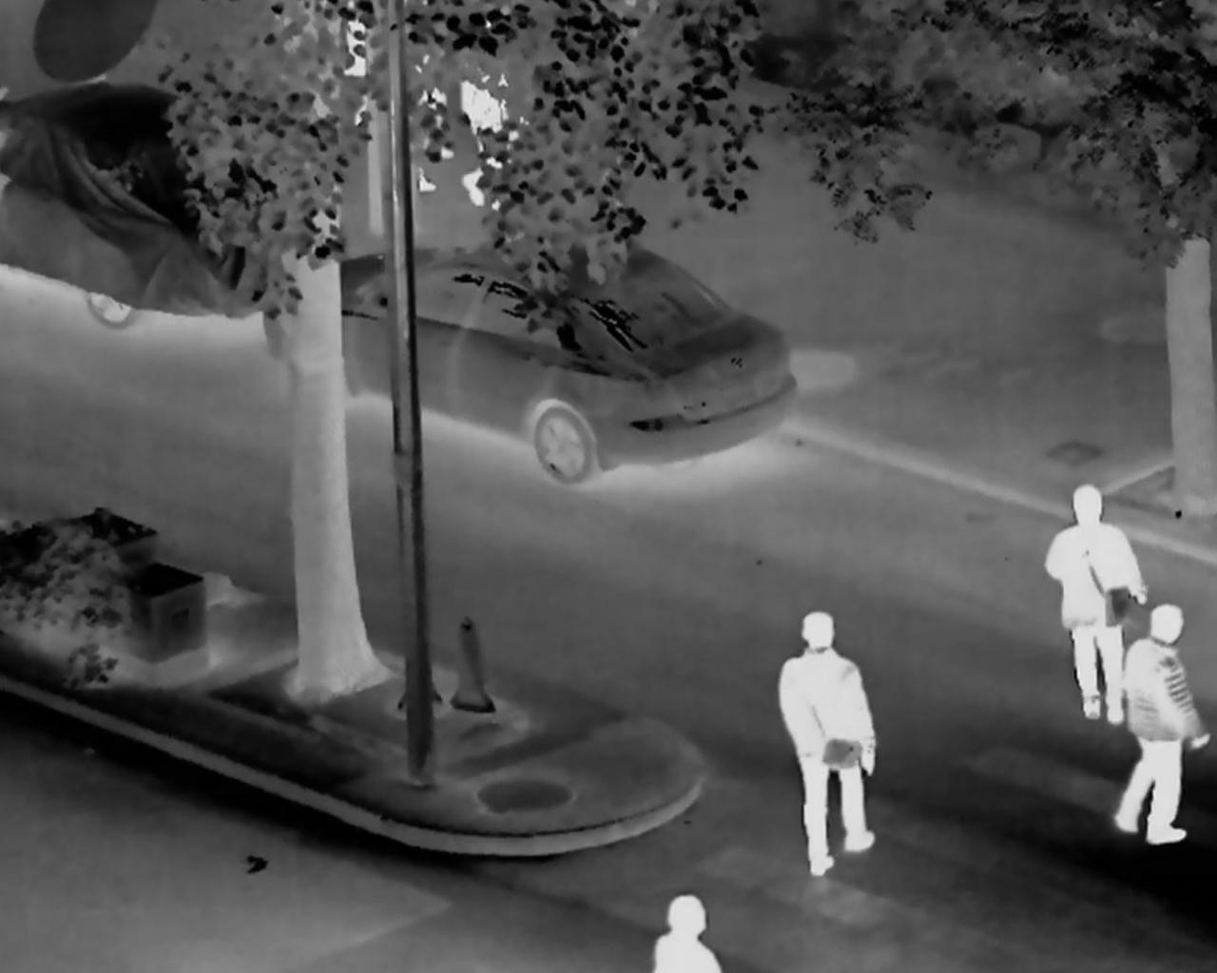person: (773, 610, 877, 876), (1045, 490, 1146, 722), (1115, 604, 1207, 845), (654, 891, 723, 973)
